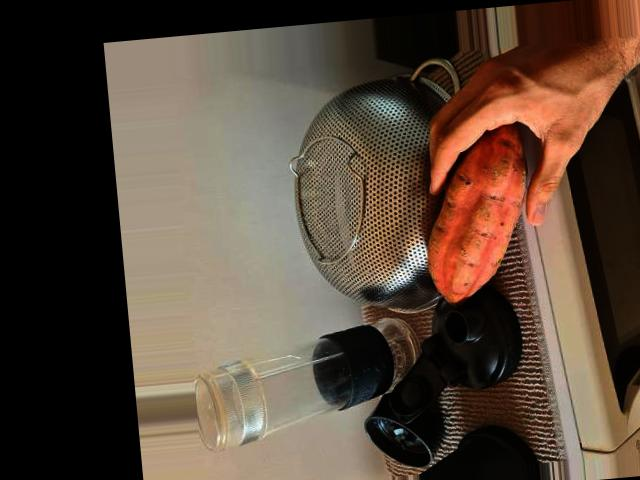sweet_potato: (418, 123, 536, 305)
